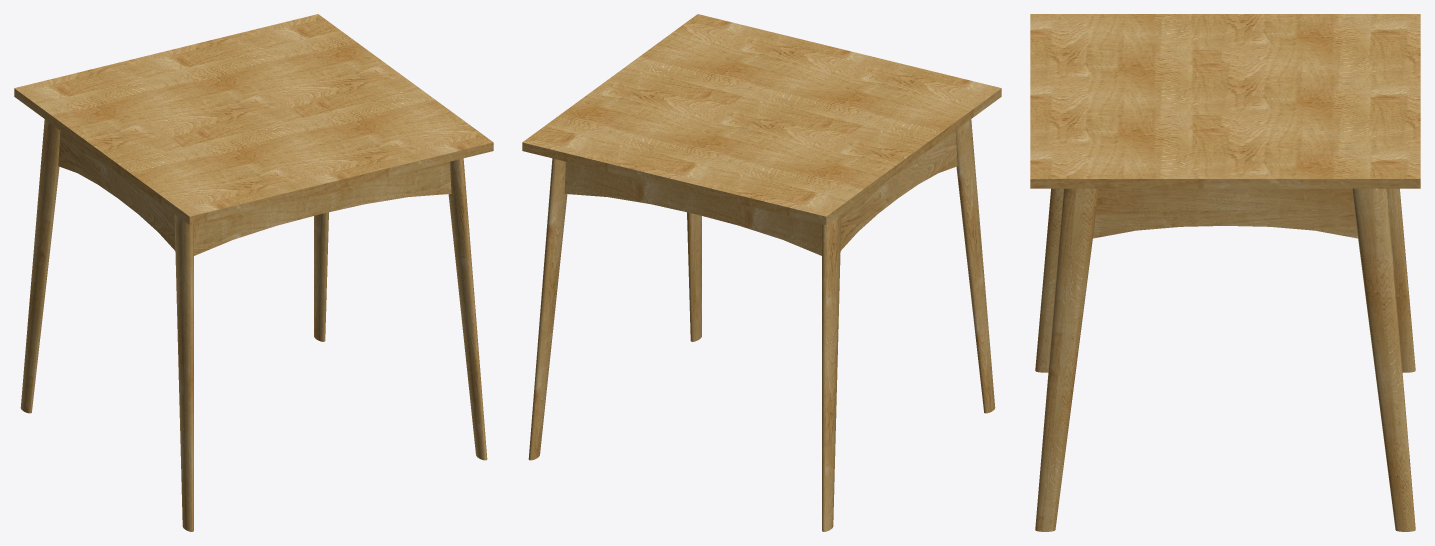
File: sh-scopia-table-with-leaning-feet.glb
The picture shows the model from 3 angles, left to right: view 1: azimuth 30°, elevation 25°; view 2: azimuth 150°, elevation 25°; view 3: azimuth 270°, elevation 25°; orthographic projection. The views are drawn at different scales.
Parts seen in each view (by area): view 1: legs_Cylinder; view 2: legs_Cylinder; view 3: legs_Cylinder.
Boxes of the visible parts, x1,y1,x2,y2 form: legs_Cylinder: (14, 14, 493, 531); legs_Cylinder: (522, 14, 1001, 531); legs_Cylinder: (1030, 14, 1420, 531).
Bounding box in the file's own units: 1 × 1 × 1.
Materials: 1 (1 with a texture image).
